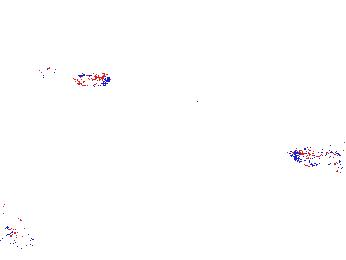red belly glassfish: (39, 61, 112, 89)
redtail glassfish: (285, 140, 346, 173)
